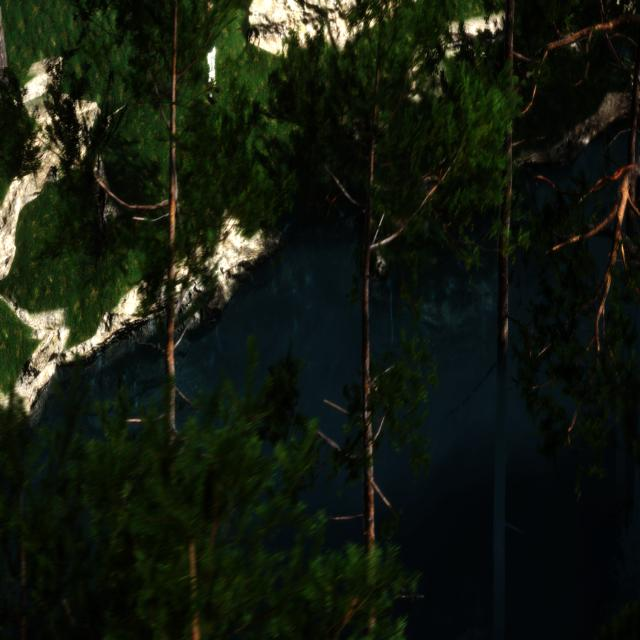Human: (203, 0, 222, 110)
